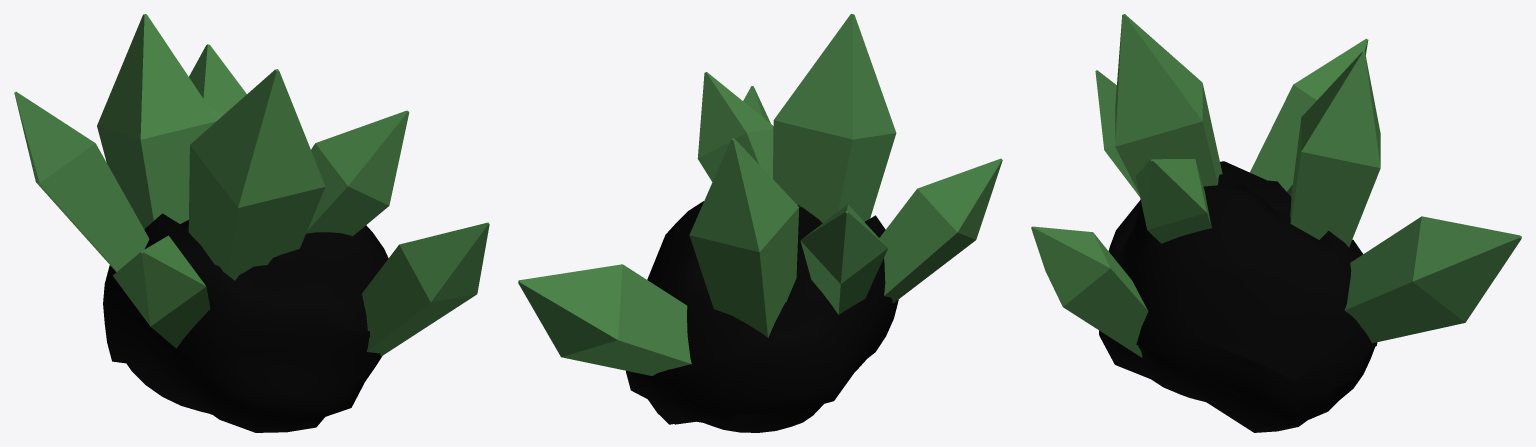
File: Mineral1.fbx
3 views of the same model, side by side, from view 1: azimuth 30°, elevation 25°; view 2: azimuth 150°, elevation 25°; view 3: azimuth 270°, elevation 25° (orthographic). The views are drawn at different scales.
Visible parts, largest first — view 1: pCube43 (×2); view 2: pCube43 (×2); view 3: pCube43 (×2).
Boxes of the visible parts, box(x1,y1,x2,y2) form: pCube43 (×2): box(14, 14, 489, 432); pCube43 (×2): box(518, 14, 1002, 432); pCube43 (×2): box(1031, 14, 1521, 432).
Bounding box in the file's own units: 1.47 × 1.8 × 2.16.
